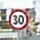limite 30: (7, 8, 29, 30)
